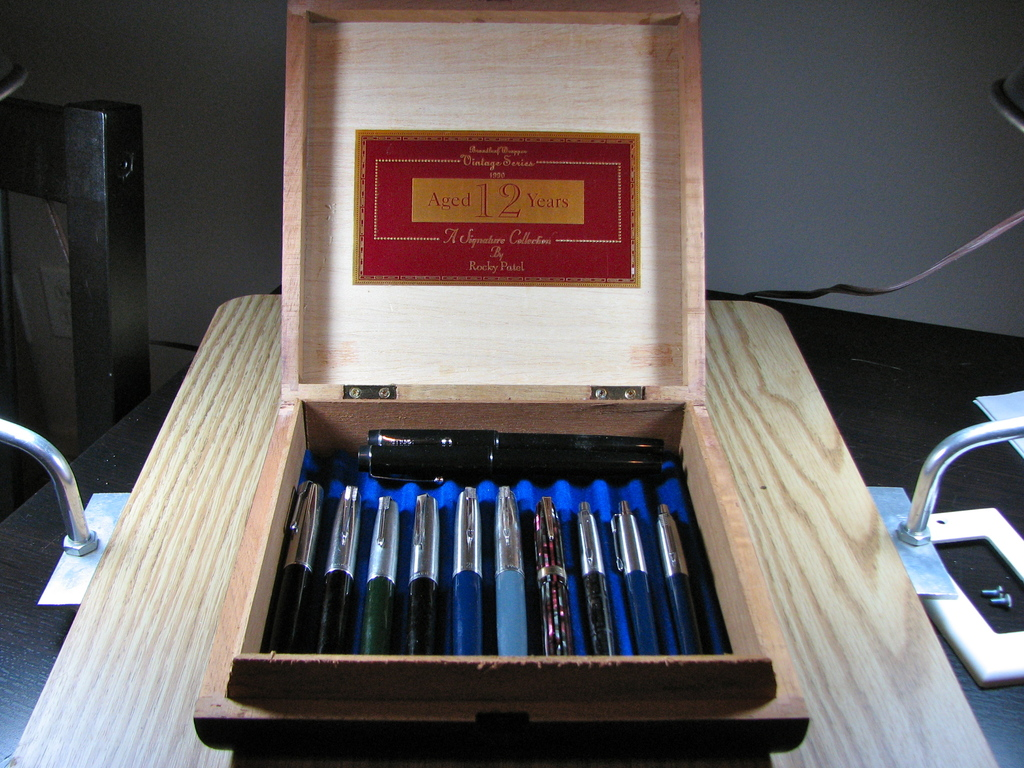Pen: (348, 447, 679, 483), (260, 481, 325, 653), (654, 494, 713, 649), (363, 425, 659, 453), (445, 485, 490, 663), (364, 490, 408, 658), (316, 478, 356, 653), (614, 493, 657, 653), (572, 489, 609, 658), (495, 487, 529, 662), (408, 494, 446, 650), (535, 489, 569, 656)
